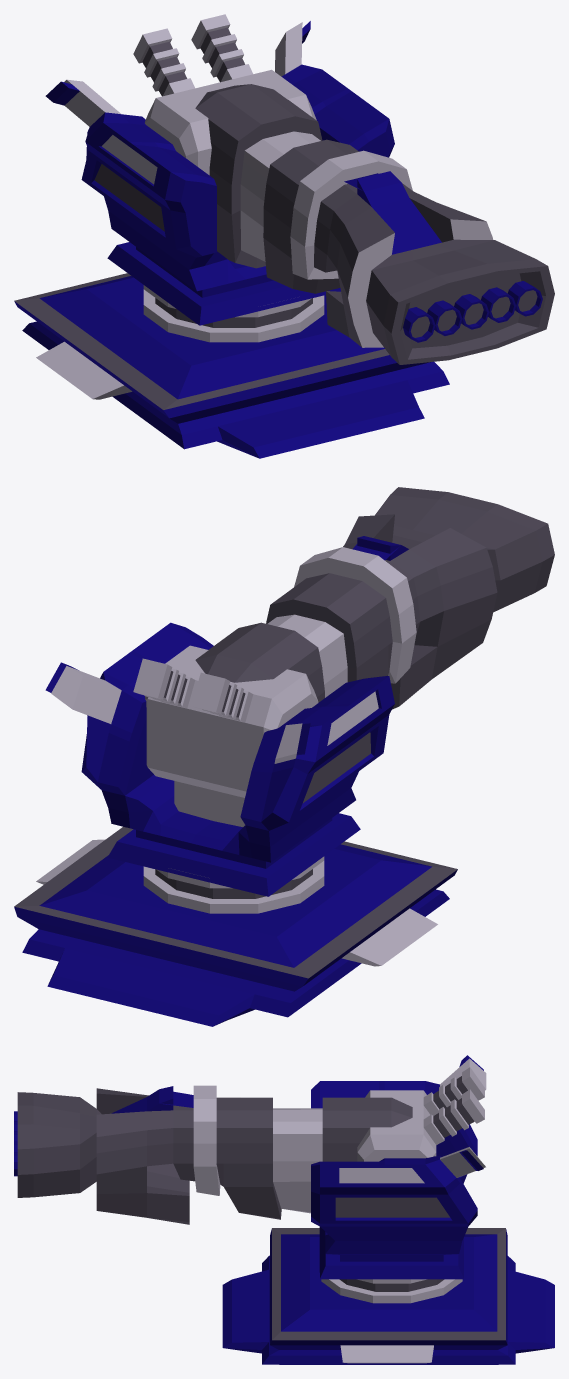
File: Sci FI Cannon.fbx
3 views of the same model, one above another, from view 1: azimuth 30°, elevation 25°; view 2: azimuth 150°, elevation 25°; view 3: azimuth 270°, elevation 25° (orthographic). The views are drawn at different scales.
Visible parts, largest first — view 1: Sci-Fi_Cannon_Turret, Sci-Fi_Cannon_Base; view 2: Sci-Fi_Cannon_Turret, Sci-Fi_Cannon_Base; view 3: Sci-Fi_Cannon_Turret, Sci-Fi_Cannon_Base.
Part boxes in pixels (bbox=[...]): Sci-Fi_Cannon_Turret: bbox=[45, 14, 554, 364]; Sci-Fi_Cannon_Base: bbox=[14, 273, 449, 458]; Sci-Fi_Cannon_Turret: bbox=[45, 487, 554, 913]; Sci-Fi_Cannon_Base: bbox=[14, 826, 457, 1026]; Sci-Fi_Cannon_Turret: bbox=[14, 1055, 486, 1303]; Sci-Fi_Cannon_Base: bbox=[222, 1228, 554, 1364].
Size of the model in its own units: 795 by 665 by 1376.
1 material, 1 textured.
